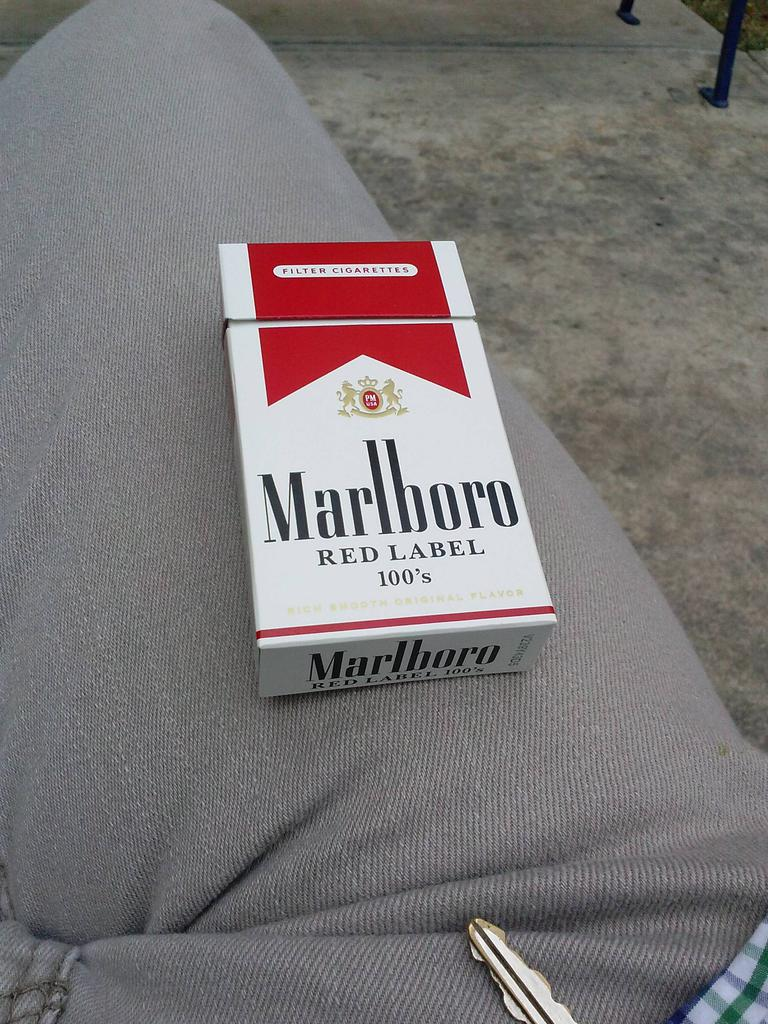marlboro_red: (250, 247, 516, 619)
